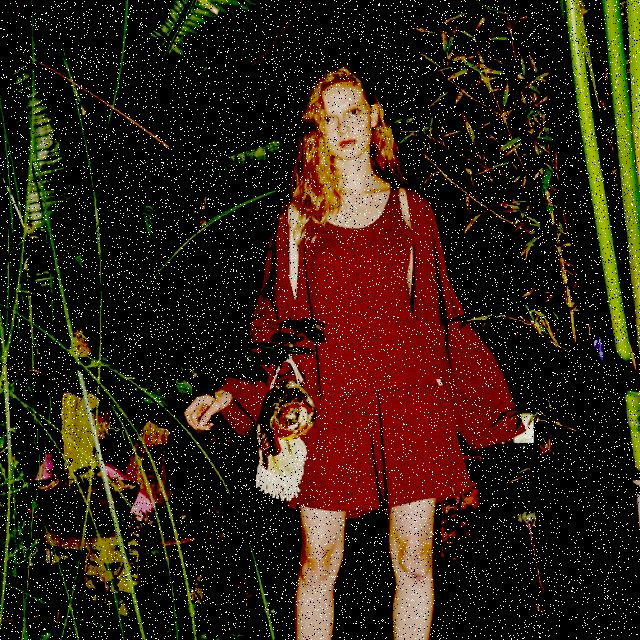dress: (287, 364, 458, 519)
